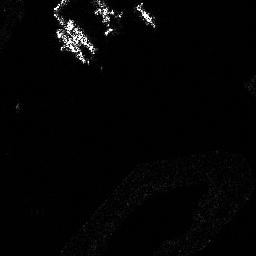ship: (56, 27, 87, 64), (66, 19, 95, 53), (136, 3, 157, 28)
